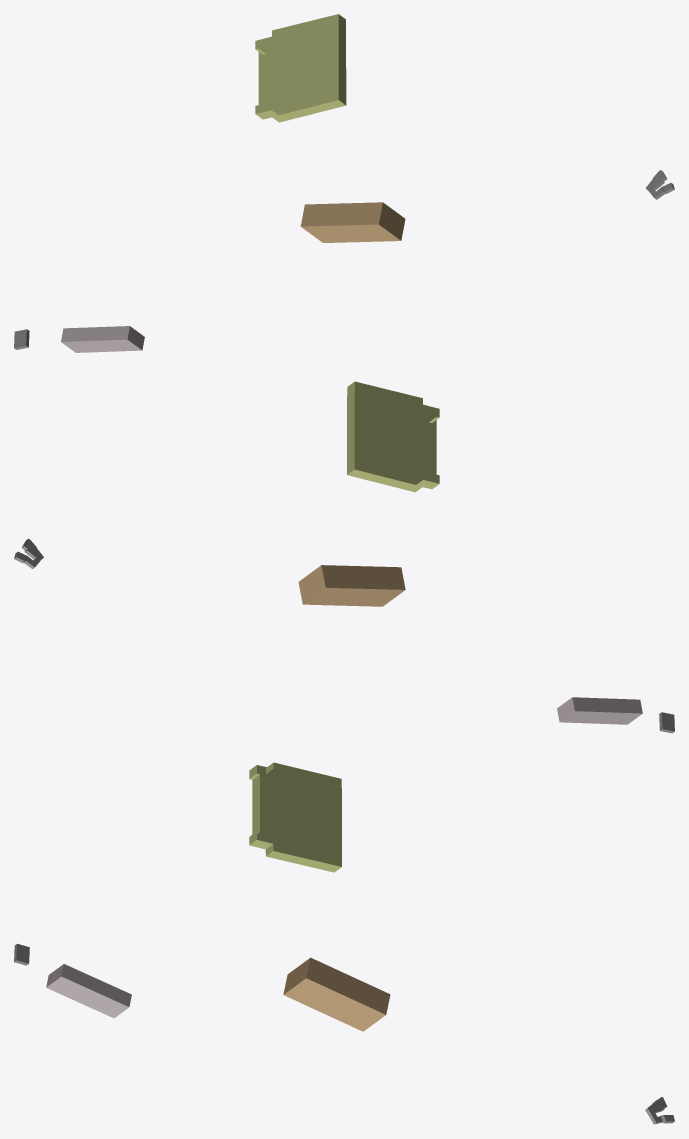
3 views of the same model, one above another, from view 1: azimuth 30°, elevation 25°; view 2: azimuth 150°, elevation 25°; view 3: azimuth 330°, elevation 25° (orthographic). The views are drawn at different scales.
Parts seen in each view (by area): view 1: 0_3_2_0_2_2; view 2: 0_3_2_0_2_2; view 3: 0_3_2_0_2_2.
Boxes of the visible parts, left/top/right/bottom form: 0_3_2_0_2_2: left=14, top=14, right=674, bottom=352; 0_3_2_0_2_2: left=14, top=381, right=674, bottom=733; 0_3_2_0_2_2: left=14, top=762, right=674, bottom=1124.
Size of the model in its own units: 451 by 183 by 28.9.
